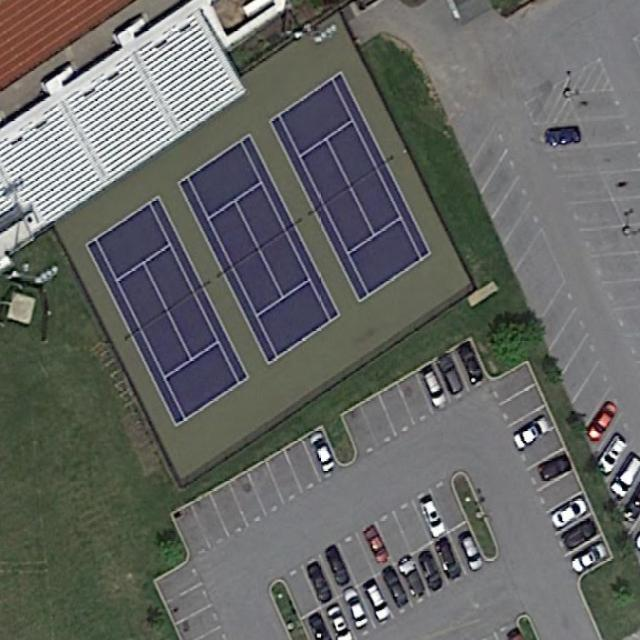small-vehicle: (593, 431, 631, 482), (417, 363, 453, 416), (508, 409, 553, 451), (304, 427, 340, 478), (548, 492, 592, 533), (415, 491, 449, 543), (395, 553, 430, 603), (570, 537, 610, 580), (585, 399, 621, 446), (340, 584, 373, 634), (303, 558, 336, 607), (433, 537, 467, 584), (559, 516, 600, 554), (362, 579, 394, 627), (609, 453, 640, 502), (325, 544, 356, 592), (435, 352, 466, 399), (415, 548, 445, 596), (362, 520, 392, 567), (380, 568, 412, 612), (455, 531, 487, 573), (457, 340, 484, 388), (536, 452, 574, 484), (547, 127, 583, 148)
